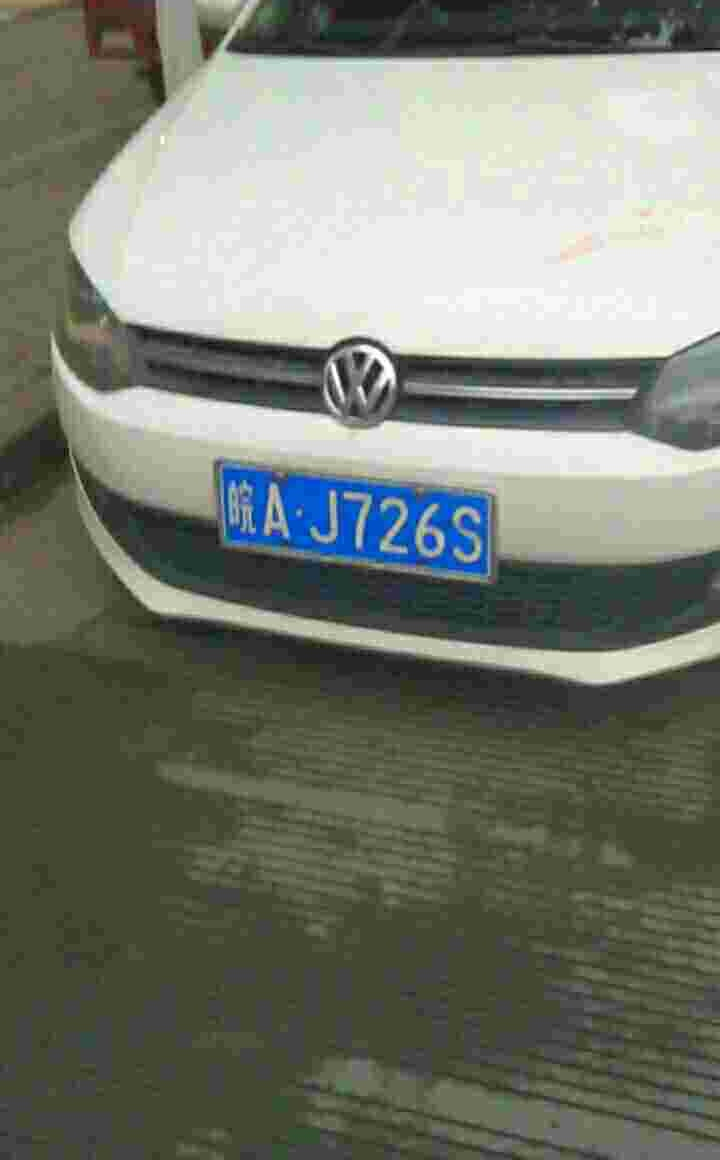license_plate: (217, 464, 499, 582)
